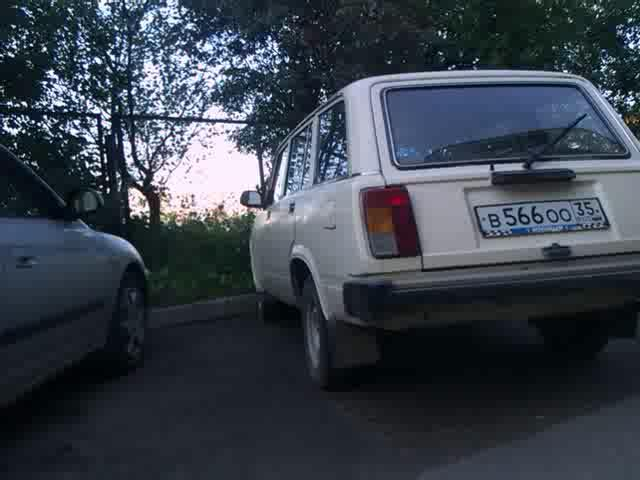car license plate: (473, 194, 610, 240)
